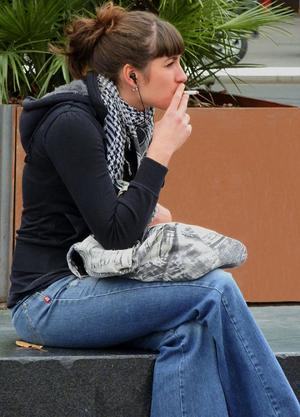person: (8, 6, 300, 415)
